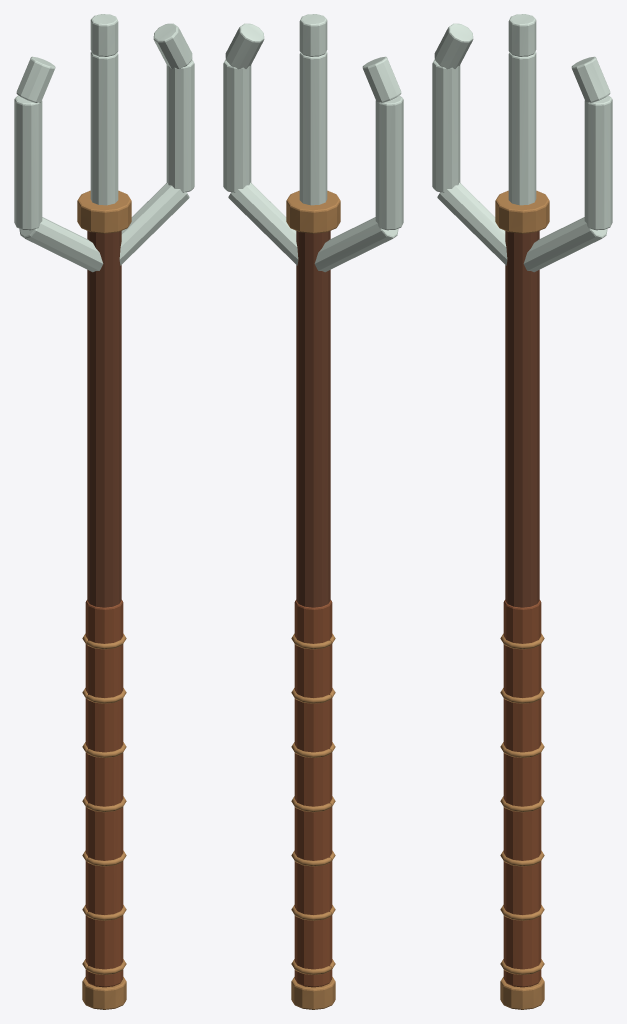
Rendered from item_009.glb.
3 renders of one model, left to right at view 1: azimuth 30°, elevation 25°; view 2: azimuth 150°, elevation 25°; view 3: azimuth 330°, elevation 25°, orthographic.
Visible parts, largest first — view 1: Item_009_fork_rake; view 2: Item_009_fork_rake; view 3: Item_009_fork_rake.
Boxes of the visible parts, x1,y1,x2,y2 form: Item_009_fork_rake: (14, 14, 194, 1009); Item_009_fork_rake: (223, 14, 403, 1009); Item_009_fork_rake: (432, 14, 612, 1009).
Size of the model in its own units: 0.394 by 2.09 by 0.1056.
